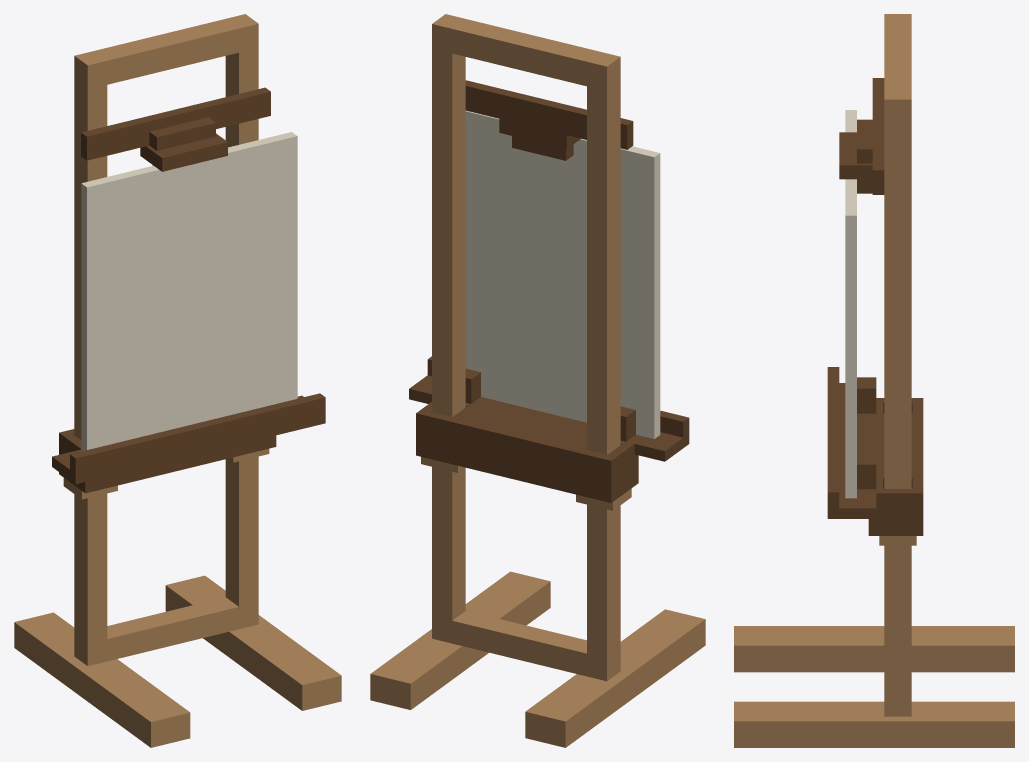
3 renders of one model, left to right at view 1: azimuth 30°, elevation 25°; view 2: azimuth 150°, elevation 25°; view 3: azimuth 270°, elevation 25°, orthographic. The views are drawn at different scales.
Visible parts, largest first — view 1: OriginalThickBlankBoard, LeftParallelGuideRailWithIntegralShoulder, ContinuousTwinSlotCarriageWithLedgeLip, LeftCompleteGroundRunner, RightParallelGuideRailWithIntegralShoulder, ContinuousUpperFixedCapAndBackPad, RightCompleteGroundRunner, UpperFullCrossTie, LowerFullCrossTie; view 2: OriginalThickBlankBoard, LeftParallelGuideRailWithIntegralShoulder, RightParallelGuideRailWithIntegralShoulder, ContinuousTwinSlotCarriageWithLedgeLip, LeftCompleteGroundRunner, RightCompleteGroundRunner, ContinuousUpperFixedCapAndBackPad, UpperFullCrossTie, LowerFullCrossTie; view 3: RightParallelGuideRailWithIntegralShoulder, RightCompleteGroundRunner, LeftCompleteGroundRunner, ContinuousTwinSlotCarriageWithLedgeLip, OriginalThickBlankBoard, ContinuousUpperFixedCapAndBackPad, UpperFullCrossTie.
Part boxes in pixels (x1,y1,x2,y2): OriginalThickBlankBoard: [81, 132, 297, 451]; LeftParallelGuideRailWithIntegralShoulder: [63, 51, 117, 665]; ContinuousTwinSlotCarriageWithLedgeLip: [52, 393, 325, 493]; LeftCompleteGroundRunner: [14, 612, 190, 747]; RightParallelGuideRailWithIntegralShoulder: [225, 14, 269, 629]; ContinuousUpperFixedCapAndBackPad: [81, 87, 270, 171]; RightCompleteGroundRunner: [165, 575, 341, 710]; UpperFullCrossTie: [94, 19, 238, 84]; LowerFullCrossTie: [107, 597, 238, 661]; OriginalThickBlankBoard: [465, 110, 660, 438]; LeftParallelGuideRailWithIntegralShoulder: [576, 52, 631, 681]; RightParallelGuideRailWithIntegralShoulder: [421, 14, 465, 643]; ContinuousTwinSlotCarriageWithLedgeLip: [409, 356, 689, 502]; LeftCompleteGroundRunner: [525, 609, 705, 747]; RightCompleteGroundRunner: [370, 571, 550, 709]; ContinuousUpperFixedCapAndBackPad: [465, 80, 633, 160]; UpperFullCrossTie: [452, 19, 599, 86]; LowerFullCrossTie: [452, 611, 586, 676]; RightParallelGuideRailWithIntegralShoulder: [879, 89, 916, 716]; RightCompleteGroundRunner: [734, 701, 1014, 747]; LeftCompleteGroundRunner: [734, 626, 1014, 672]; ContinuousTwinSlotCarriageWithLedgeLip: [827, 367, 923, 535]; OriginalThickBlankBoard: [845, 110, 856, 498]; ContinuousUpperFixedCapAndBackPad: [839, 78, 884, 194]; UpperFullCrossTie: [884, 24, 911, 89].
Size of the model in its own units: 0.76 by 1.82 by 0.72.
